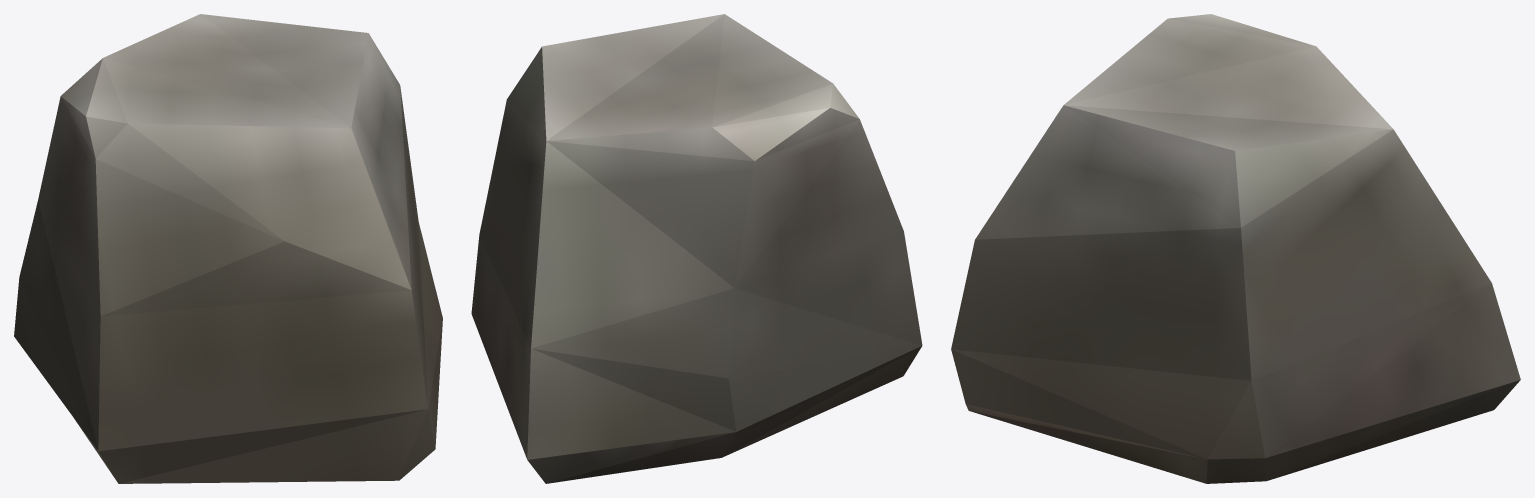
The model's file is rock_06.glb.
3 views of the same model, side by side, from view 1: azimuth 30°, elevation 25°; view 2: azimuth 150°, elevation 25°; view 3: azimuth 270°, elevation 25° (orthographic). The views are drawn at different scales.
Visible parts, largest first — view 1: SM_Rocks_06_RocksStylized_M_0; view 2: SM_Rocks_06_RocksStylized_M_0; view 3: SM_Rocks_06_RocksStylized_M_0.
Part boxes in pixels (x1,y1,x2,y2): SM_Rocks_06_RocksStylized_M_0: [14, 14, 442, 483]; SM_Rocks_06_RocksStylized_M_0: [471, 14, 922, 483]; SM_Rocks_06_RocksStylized_M_0: [951, 14, 1520, 483].
Size of the model in its own units: 0.7363 by 0.6265 by 0.9432.
Materials: 1 (1 with a texture image).
